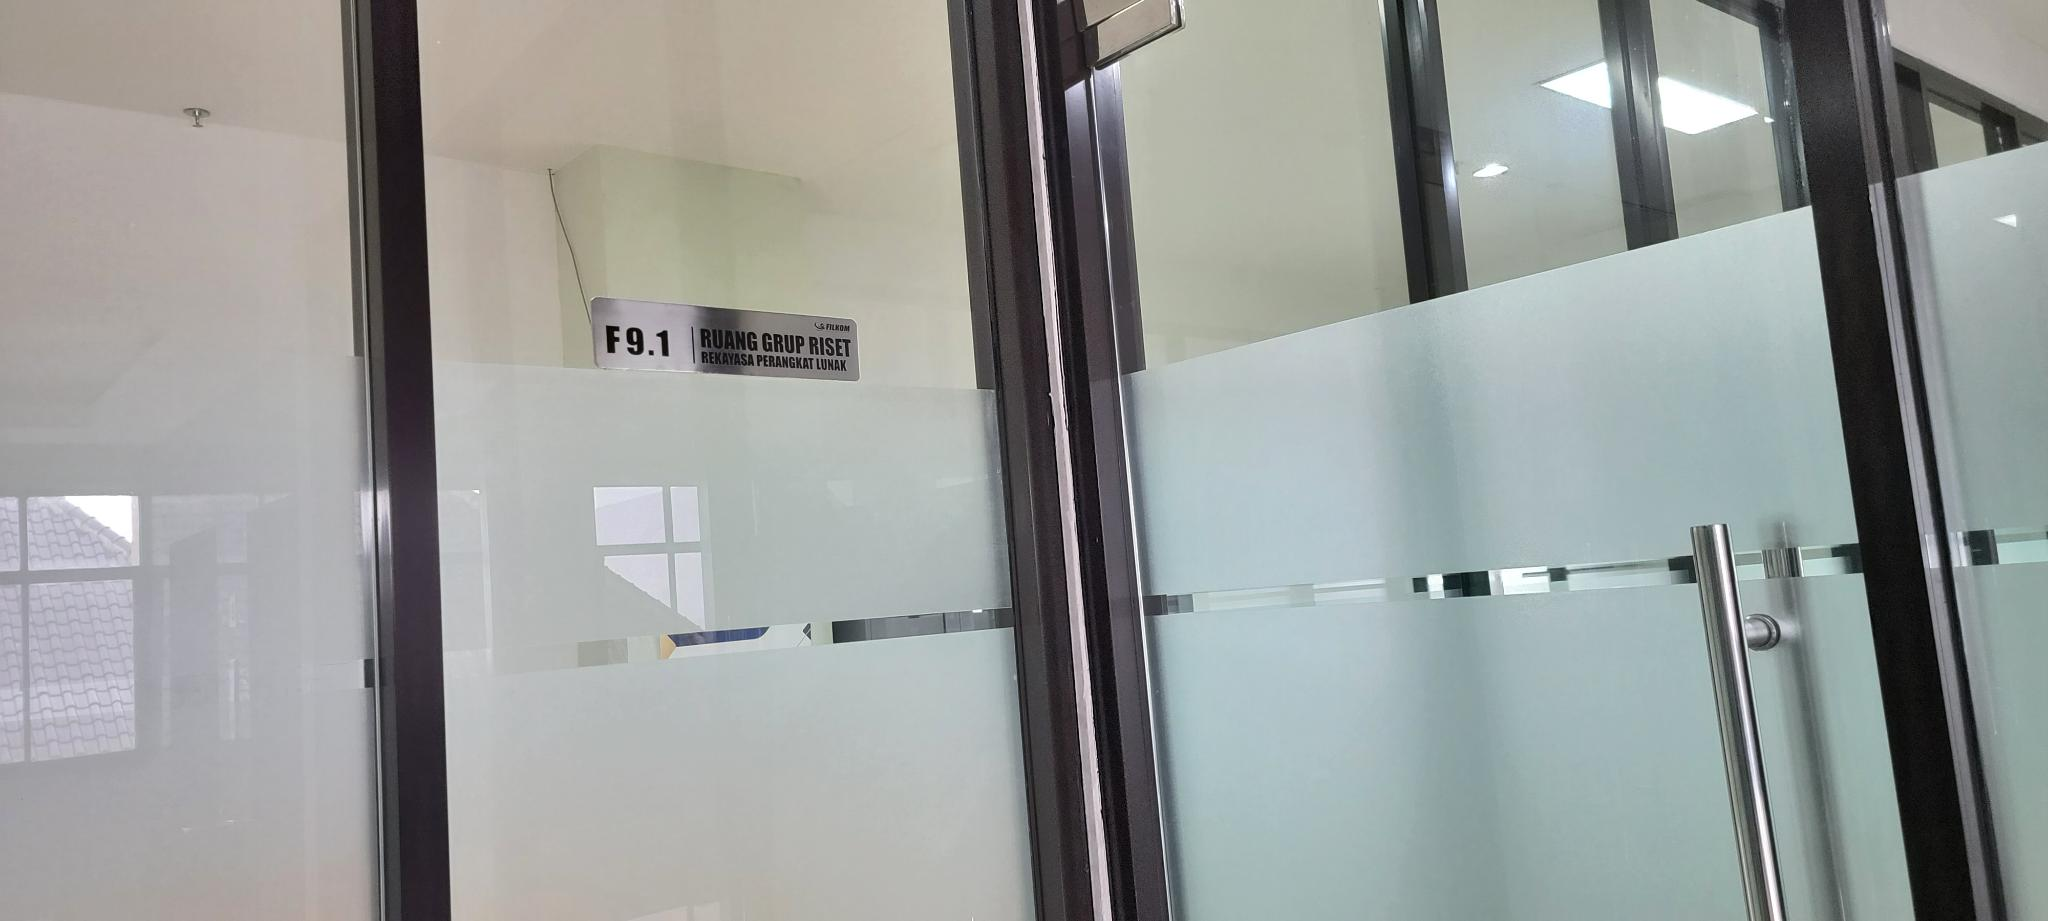plate: (589, 297, 861, 380)
